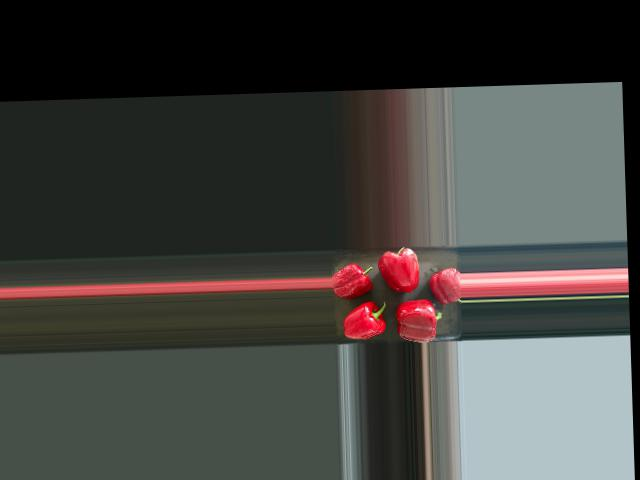bell_pepper: (427, 261, 460, 306)
